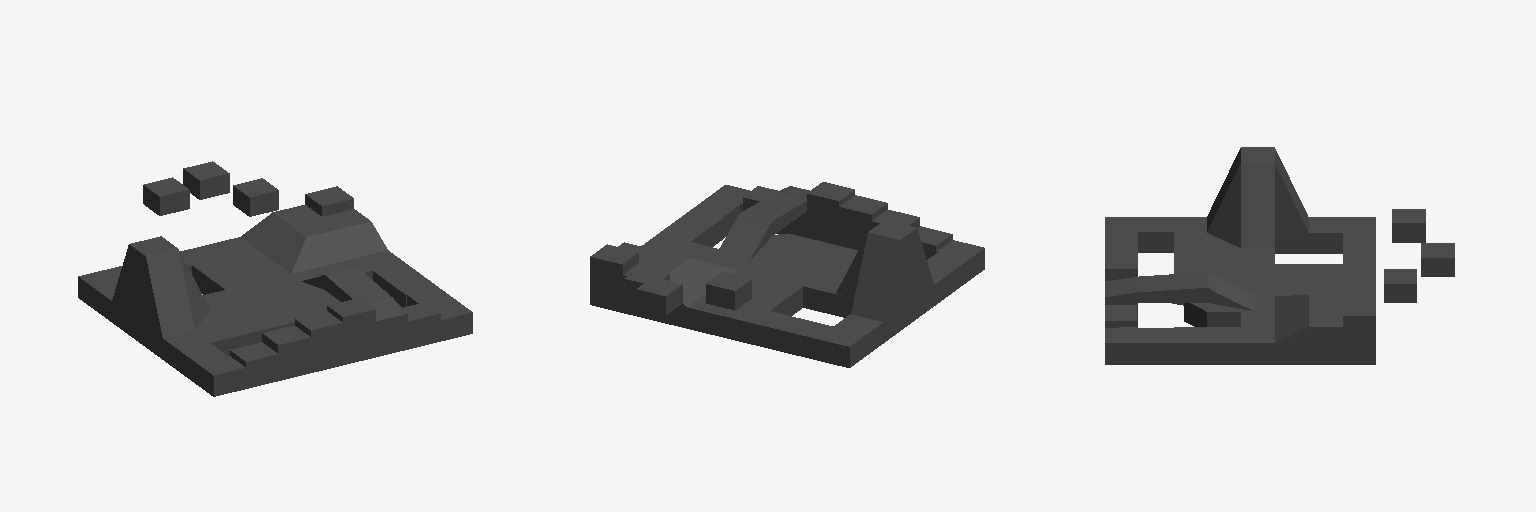
File: floor.obj
3 renders of one model, left to right at view 1: azimuth 30°, elevation 25°; view 2: azimuth 150°, elevation 25°; view 3: azimuth 270°, elevation 25°, orthographic.
Parts seen in each view (by area): view 1: Box001; view 2: Box001; view 3: Box001.
Boxes of the visible parts, x1,y1,x2,y2 form: Box001: [78, 161, 472, 396]; Box001: [590, 182, 984, 367]; Box001: [1105, 147, 1454, 364].
Size of the model in its own units: 21.08 by 7.07 by 24.59.